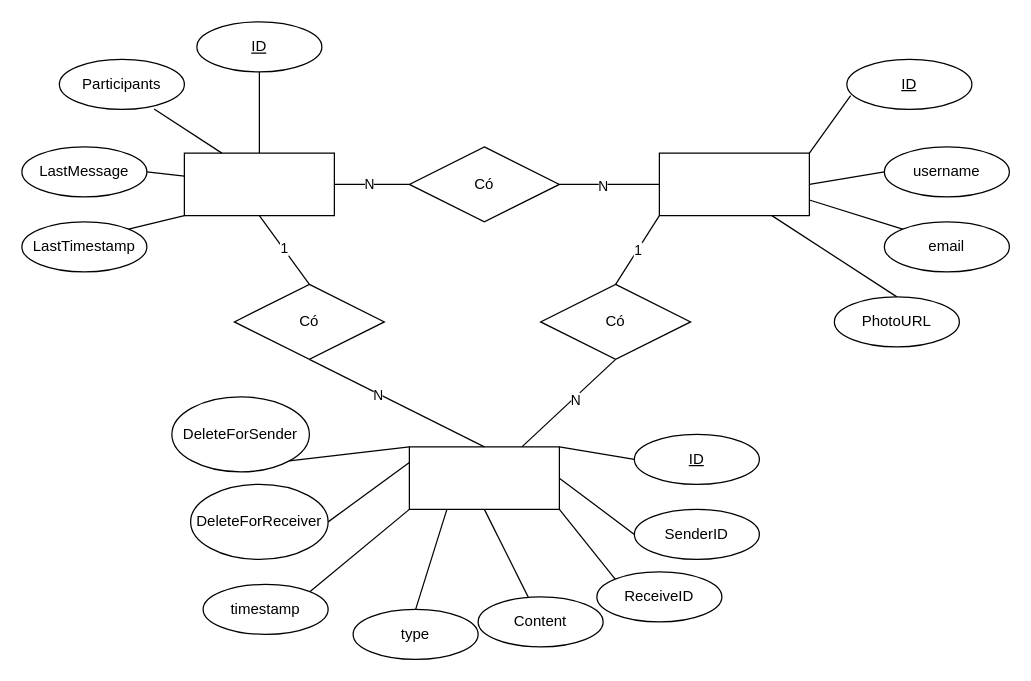
The diagram is 1031 pixels wide and 681 high, and some of its shapes have lost their labels. The shapes that lost their labels are listed below. From the top down, each one's box as (x1, y1, x2, y2) in pixels, then its label:
(183, 152, 334, 216): Chat
(658, 152, 809, 216): User
(408, 446, 559, 509): Message
